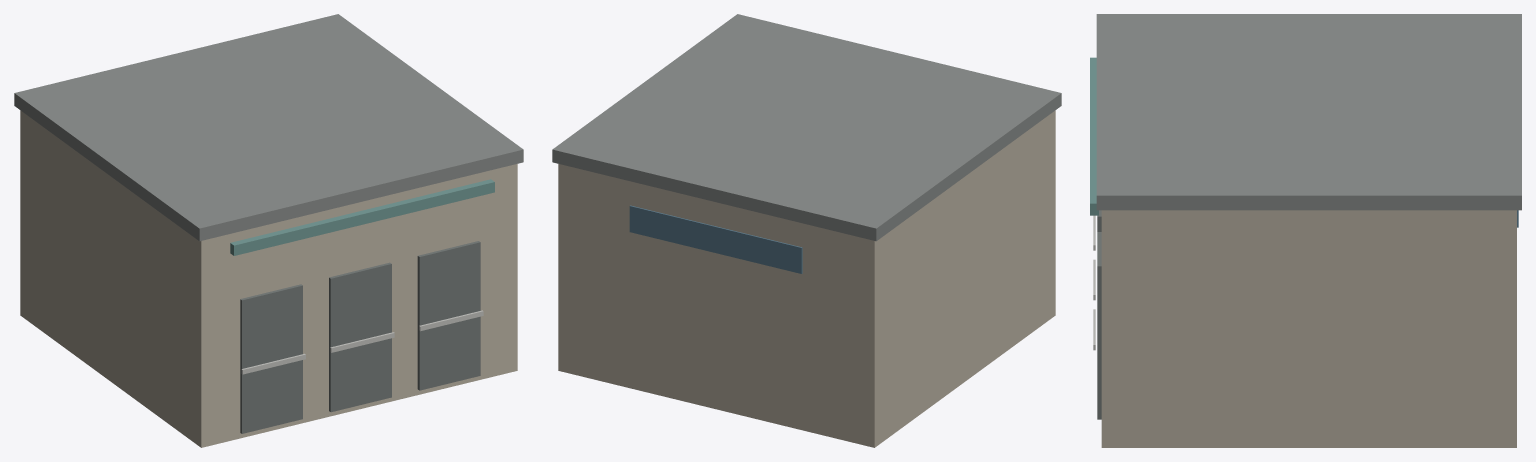
File: warehouse_3x3.glb
3 renders of one model, left to right at view 1: azimuth 30°, elevation 25°; view 2: azimuth 150°, elevation 25°; view 3: azimuth 270°, elevation 25°, orthographic. The views are drawn at different scales.
Visible parts, largest first — view 1: warehouse_3x3; view 2: warehouse_3x3; view 3: warehouse_3x3.
Part boxes in pixels (bbox=[...]): warehouse_3x3: bbox=[14, 14, 523, 447]; warehouse_3x3: bbox=[552, 14, 1061, 447]; warehouse_3x3: bbox=[1090, 14, 1521, 447].
Size of the model in its own units: 5.84 by 3.82 by 5.87.
